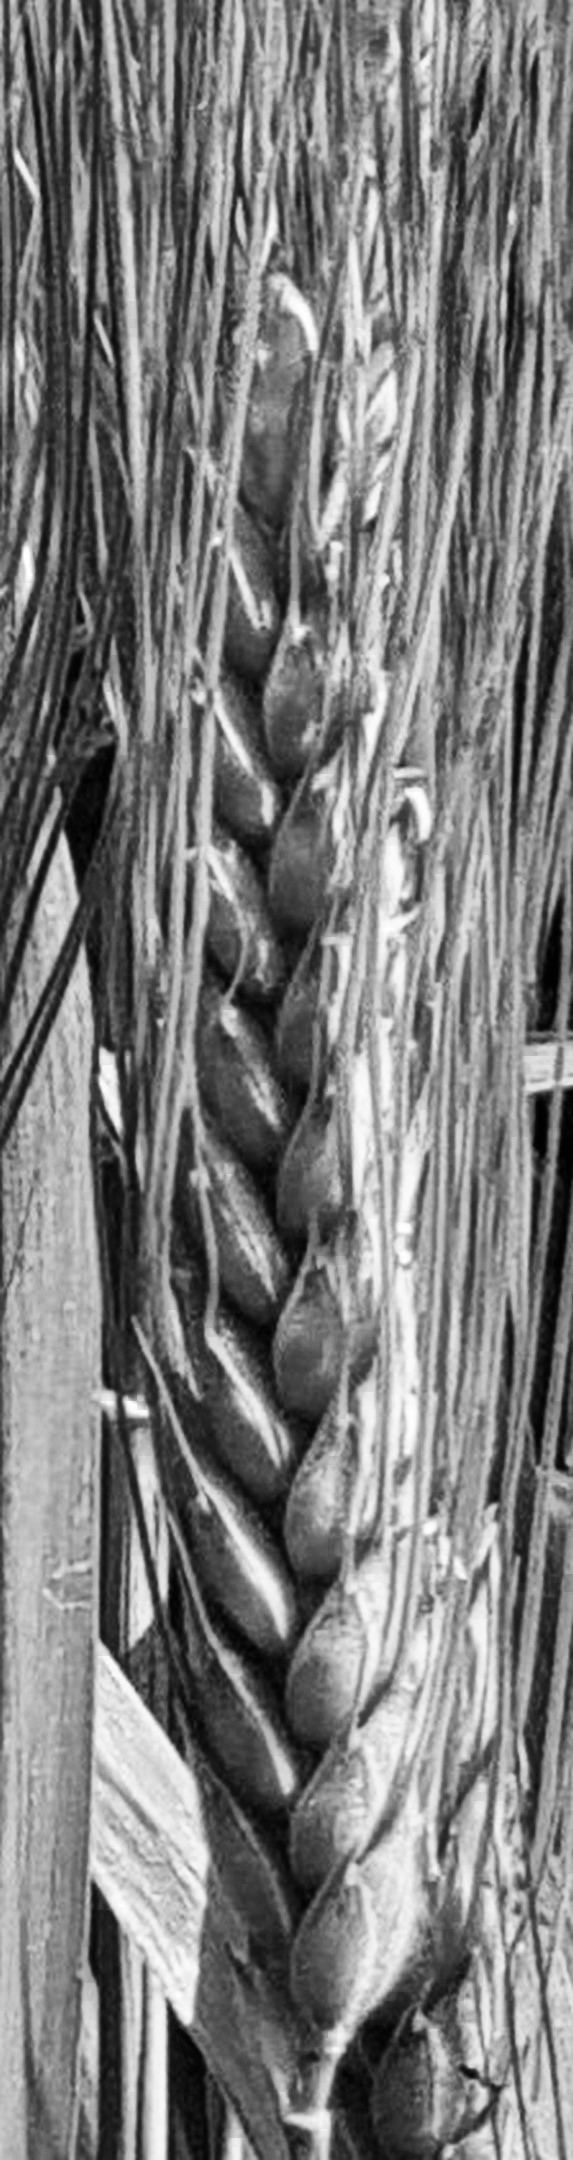Healthy Wheat: (125, 287, 457, 2024)
